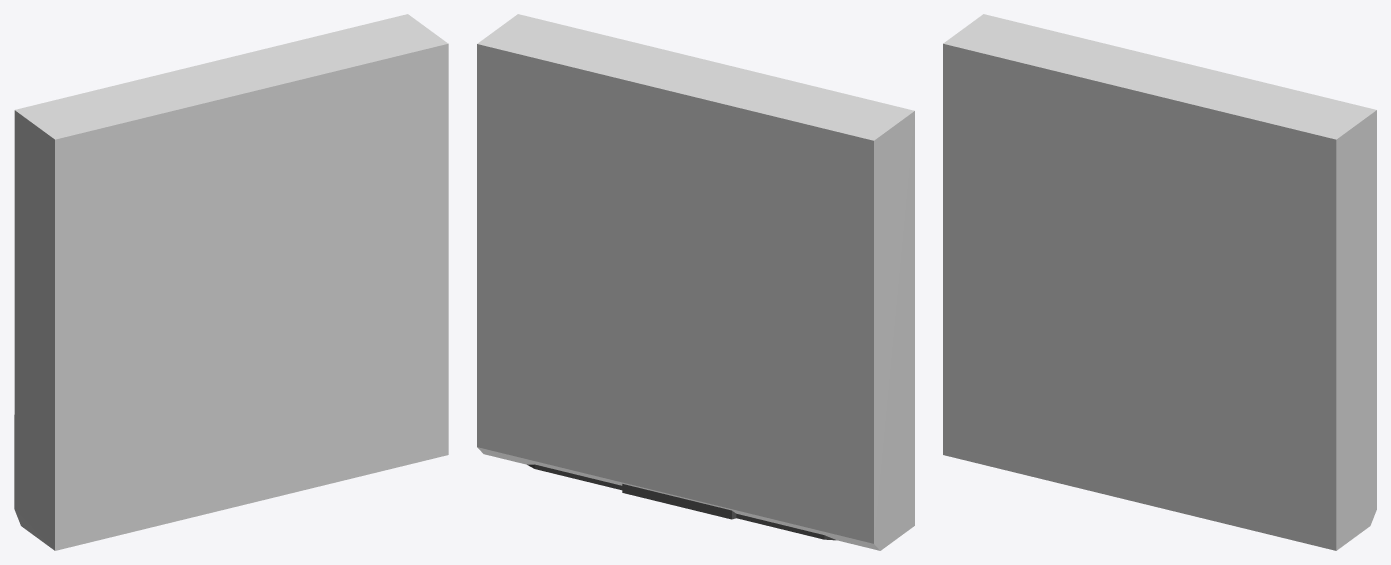
Rendered from SM_Bld_Wall_05.fbx.
3 renders of one model, left to right at view 1: azimuth 30°, elevation 25°; view 2: azimuth 150°, elevation 25°; view 3: azimuth 330°, elevation 25°, orthographic.
Visible parts, largest first — view 1: SM_Bld_Wall_05_ConvexHulls; view 2: SM_Bld_Wall_05_ConvexHulls, SM_Bld_Wall_05_LOD0; view 3: SM_Bld_Wall_05_ConvexHulls.
Part boxes in pixels (box(x1,y1,x2,y2)): SM_Bld_Wall_05_ConvexHulls: box(14, 14, 448, 550); SM_Bld_Wall_05_ConvexHulls: box(477, 14, 914, 550); SM_Bld_Wall_05_LOD0: box(527, 464, 836, 540); SM_Bld_Wall_05_ConvexHulls: box(943, 14, 1376, 550).
Size of the model in its own units: 89.49 by 500 by 500.
Materials: 1 (1 with a texture image).
